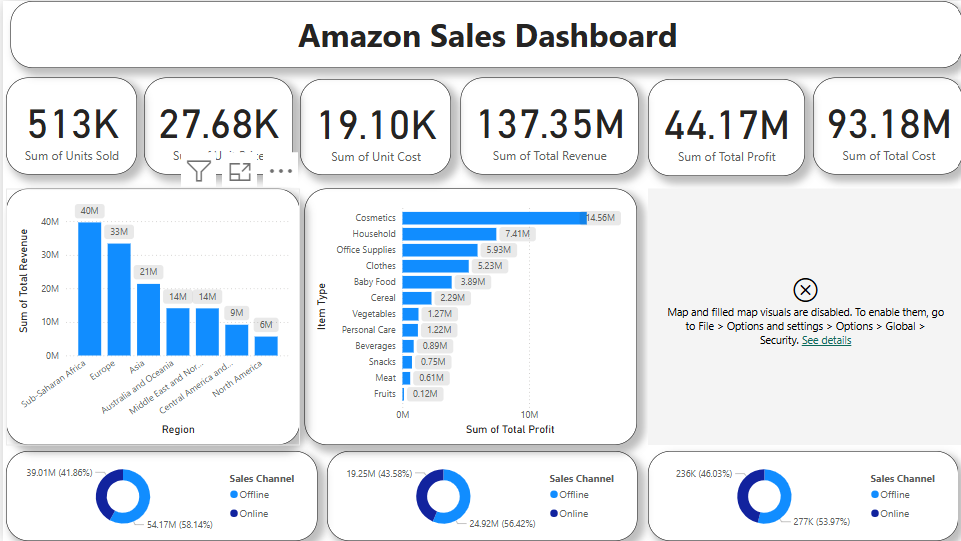

This screenshot's page, from the dashboard's own definition file:
{"tool":"powerbi","page":{"name":"Page 1","canvas":[1280,720],"ordinal":0},"visuals":[{"type":"textbox","box":[9.4,0,1271.3,89],"z":0},{"type":"card","title":"Total Unit Sold","fields":{"Values":["Sum(Amazon Sales data.Units Sold)"]},"box":[4.7,101.5,174.9,129.6],"z":1000},{"type":"card","fields":{"Values":["Sum(Amazon Sales data.Unit Price)"]},"box":[189,101.5,198.4,129.6],"z":2000},{"type":"card","fields":{"Values":["Sum(Amazon Sales data.Unit Cost)"]},"box":[396.7,103.1,201.5,128.1],"z":3000},{"type":"card","fields":{"Values":["Sum(Amazon Sales data.Total Revenue)"]},"box":[609.1,101.5,237.4,129.6],"z":4000},{"type":"card","fields":{"Values":["Sum(Amazon Sales data.Total Cost)"]},"box":[1079.2,101.5,201.5,129.6],"z":5000},{"type":"card","fields":{"Values":["Sum(Amazon Sales data.Total Profit)"]},"box":[860.6,103.1,209.3,129.6],"z":6000},{"type":"clusteredColumnChart","fields":{"Y":["Sum(Amazon Sales data.Total Revenue)"],"Category":["Amazon Sales data.Region"]},"box":[4.7,249.9,392,342],"z":7000},{"type":"barChart","fields":{"Category":["Amazon Sales data.Item Type"],"Y":["Sum(Amazon Sales data.Total Profit)"]},"box":[403,249.9,443.6,342],"z":8000},{"type":"map","fields":{"Category":["Amazon Sales data.Country"],"Size":["Sum(Amazon Sales data.Units Sold)"]},"box":[860.6,249.9,420.1,342],"z":9000},{"type":"donutChart","fields":{"Category":["Amazon Sales data.Sales Channel"],"Y":["Sum(Amazon Sales data.Total Cost)"]},"box":[4.7,599.7,415.4,120.3],"z":10000},{"type":"donutChart","fields":{"Category":["Amazon Sales data.Sales Channel"],"Y":["Sum(Amazon Sales data.Total Profit)"]},"box":[432.6,599.7,413.9,120.3],"z":11000},{"type":"donutChart","fields":{"Category":["Amazon Sales data.Sales Channel"],"Y":["Sum(Amazon Sales data.Units Sold)"]},"box":[860.6,599.7,413.9,120.3],"z":12000}]}

Visuals, with their boxes on the page's 1280x720 design canvas (x1, y1, x2, y2). These are canvas units, not pixel positions in the 961x541 screenshot, which may show the page scaled, cropped or inside an application window:
textbox: bbox(9, 0, 1281, 89)
"Total Unit Sold" card: bbox(5, 102, 180, 231)
card - Sum(Amazon Sales data.Unit Price): bbox(189, 102, 387, 231)
card - Sum(Amazon Sales data.Unit Cost): bbox(397, 103, 598, 231)
card - Sum(Amazon Sales data.Total Revenue): bbox(609, 102, 846, 231)
card - Sum(Amazon Sales data.Total Cost): bbox(1079, 102, 1281, 231)
card - Sum(Amazon Sales data.Total Profit): bbox(861, 103, 1070, 233)
clusteredColumnChart - Sum(Amazon Sales data.Total Revenue) x Amazon Sales data.Region: bbox(5, 250, 397, 592)
barChart - Amazon Sales data.Item Type x Sum(Amazon Sales data.Total Profit): bbox(403, 250, 847, 592)
map - Amazon Sales data.Country x Sum(Amazon Sales data.Units Sold): bbox(861, 250, 1281, 592)
donutChart - Amazon Sales data.Sales Channel x Sum(Amazon Sales data.Total Cost): bbox(5, 600, 420, 720)
donutChart - Amazon Sales data.Sales Channel x Sum(Amazon Sales data.Total Profit): bbox(433, 600, 846, 720)
donutChart - Amazon Sales data.Sales Channel x Sum(Amazon Sales data.Units Sold): bbox(861, 600, 1274, 720)
